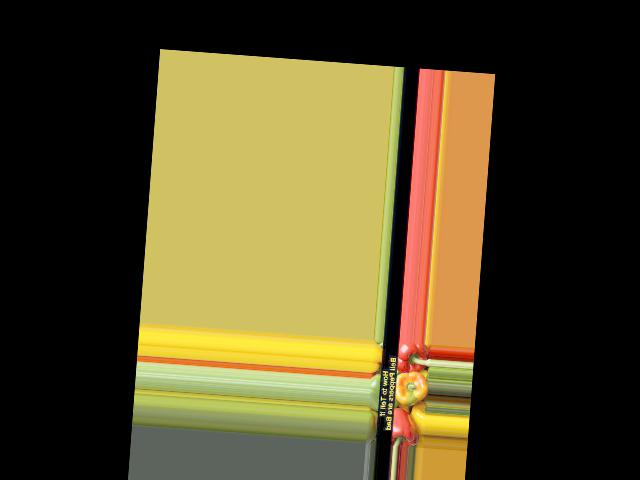bell_pepper: (394, 343, 431, 376)
